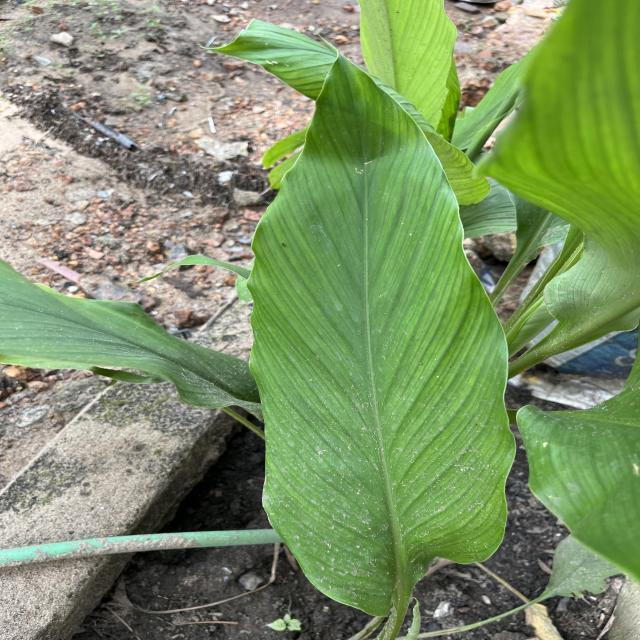Curcuma longa: (242, 32, 522, 622)
